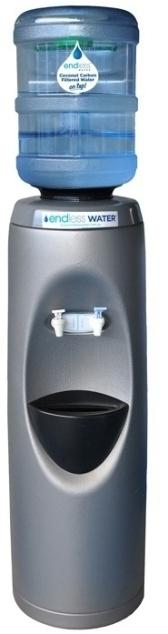Dispenser: (7, 4, 147, 630)
